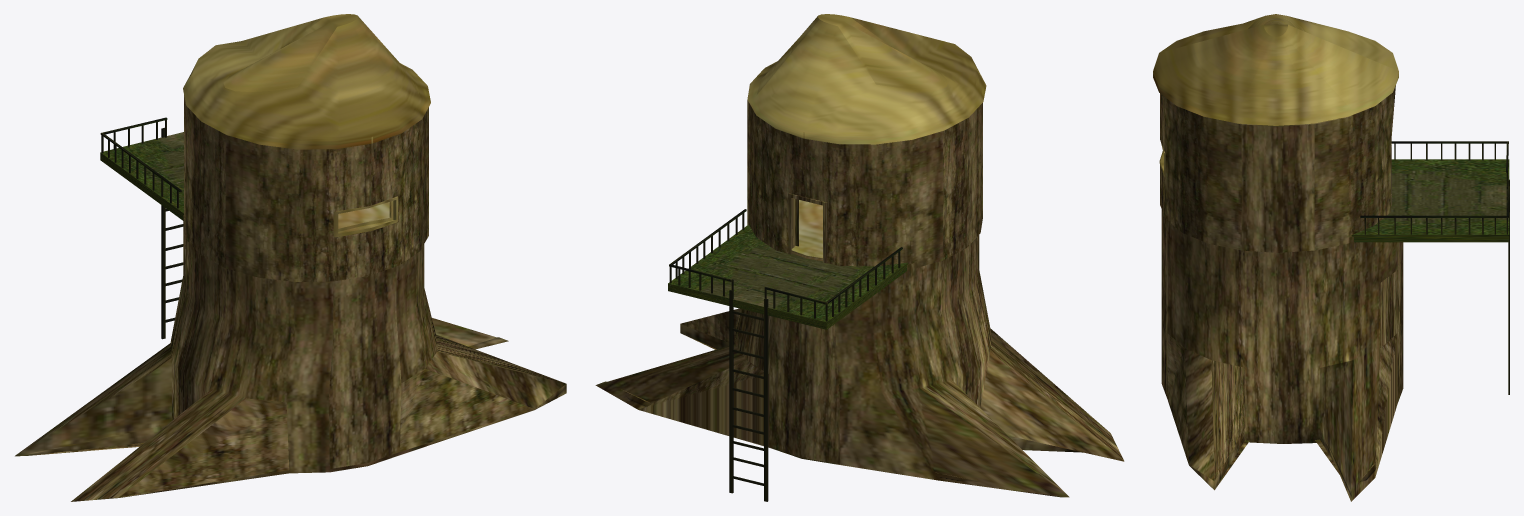
The model's file is Casa.obj.
The picture shows the model from 3 angles, left to right: view 1: azimuth 30°, elevation 25°; view 2: azimuth 150°, elevation 25°; view 3: azimuth 270°, elevation 25°; orthographic projection. The views are drawn at different scales.
Parts seen in each view (by area): view 1: Casa:pCylinder1, Casa:pCylinder6, Casa:pCylinder5, Casa:pCube3, Casa:pCube9, Casa:pCylinder4, Casa:pCube4; view 2: Casa:pCylinder1, Casa:pCylinder6, Casa:pCylinder5, Casa:pCube3, Casa:pCylinder4, Casa:pCube4, Casa:pasted__pCube4group, Casa:pCube8; view 3: Casa:pCylinder1, Casa:pCylinder6, Casa:pCylinder5, Casa:pCube3, Casa:pCube6.
Part boxes in pixels (x1,y1,x2,y2): Casa:pCylinder1: (15, 215, 566, 501); Casa:pCylinder6: (184, 95, 428, 281); Casa:pCylinder5: (183, 14, 430, 149); Casa:pCube3: (100, 132, 183, 220); Casa:pCube9: (333, 196, 398, 236); Casa:pCylinder4: (338, 202, 389, 228); Casa:pCube4: (161, 127, 165, 339); Casa:pCylinder1: (595, 235, 1124, 497); Casa:pCylinder6: (747, 69, 982, 267); Casa:pCylinder5: (747, 14, 986, 144); Casa:pCube3: (668, 224, 908, 329); Casa:pCylinder4: (791, 200, 822, 261); Casa:pCube4: (764, 298, 768, 501); Casa:pasted__pCube4group: (729, 290, 733, 493); Casa:pCube8: (788, 193, 827, 263); Casa:pCylinder1: (1161, 210, 1403, 501); Casa:pCylinder6: (1160, 85, 1395, 252); Casa:pCylinder5: (1153, 14, 1398, 125); Casa:pCube3: (1351, 159, 1509, 242); Casa:pCube6: (1360, 215, 1508, 217).
Bounding box in the file's own units: 38.77 × 30.5 × 25.82.
Materials: 16 (15 with a texture image).
